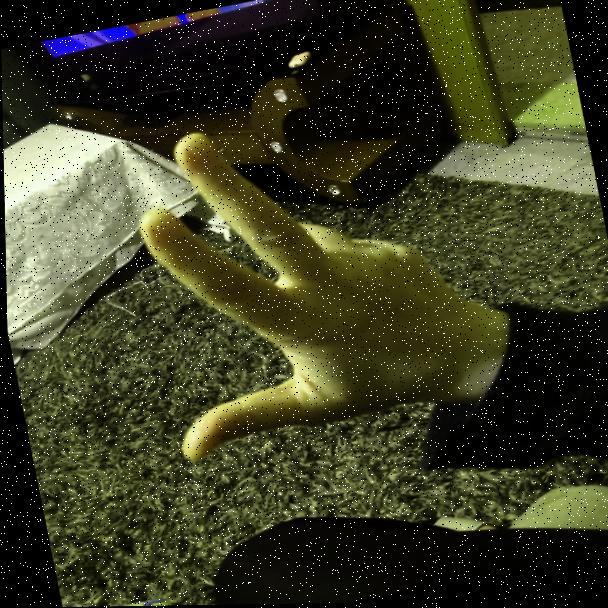three: (108, 93, 484, 470)
